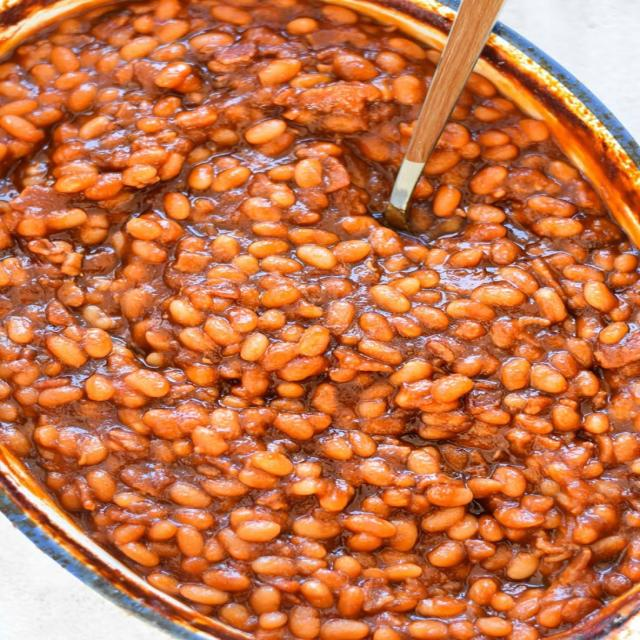beans: (0, 0, 639, 639), (472, 283, 526, 306), (333, 54, 378, 81), (125, 370, 170, 397), (259, 58, 301, 86), (431, 374, 473, 402), (0, 115, 43, 142), (346, 514, 396, 537), (583, 281, 618, 313), (534, 287, 566, 322), (371, 285, 411, 313), (469, 166, 507, 195), (530, 364, 567, 393), (527, 196, 577, 217), (245, 119, 286, 144), (427, 542, 466, 568), (180, 584, 228, 605), (320, 619, 370, 639), (393, 74, 425, 105), (534, 217, 583, 237), (427, 485, 473, 506), (297, 245, 337, 269), (154, 63, 191, 88), (236, 521, 280, 542), (213, 167, 251, 191), (294, 159, 322, 188), (240, 333, 269, 361), (211, 5, 251, 25)
